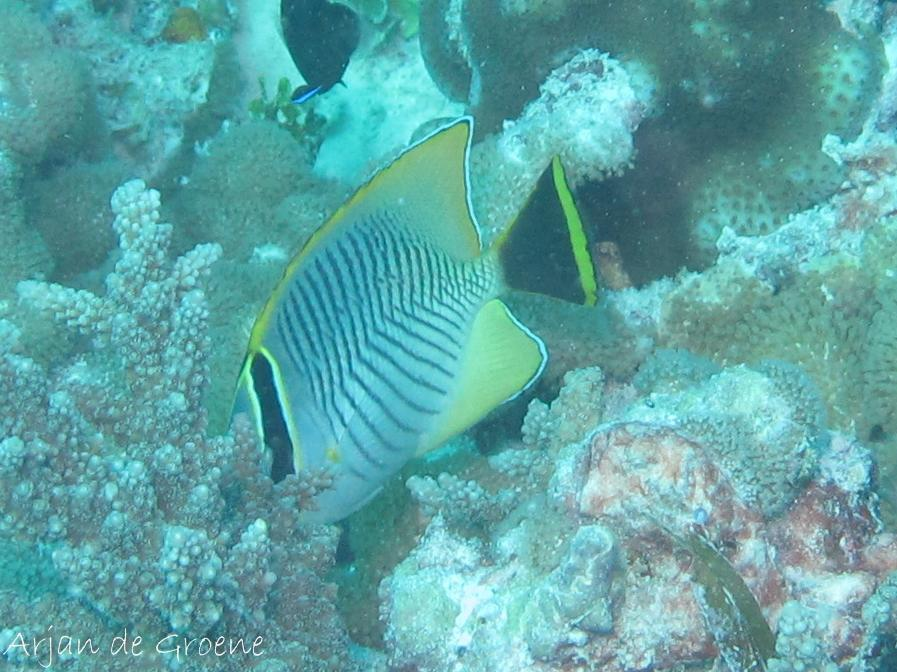Fish: (214, 99, 618, 567)
